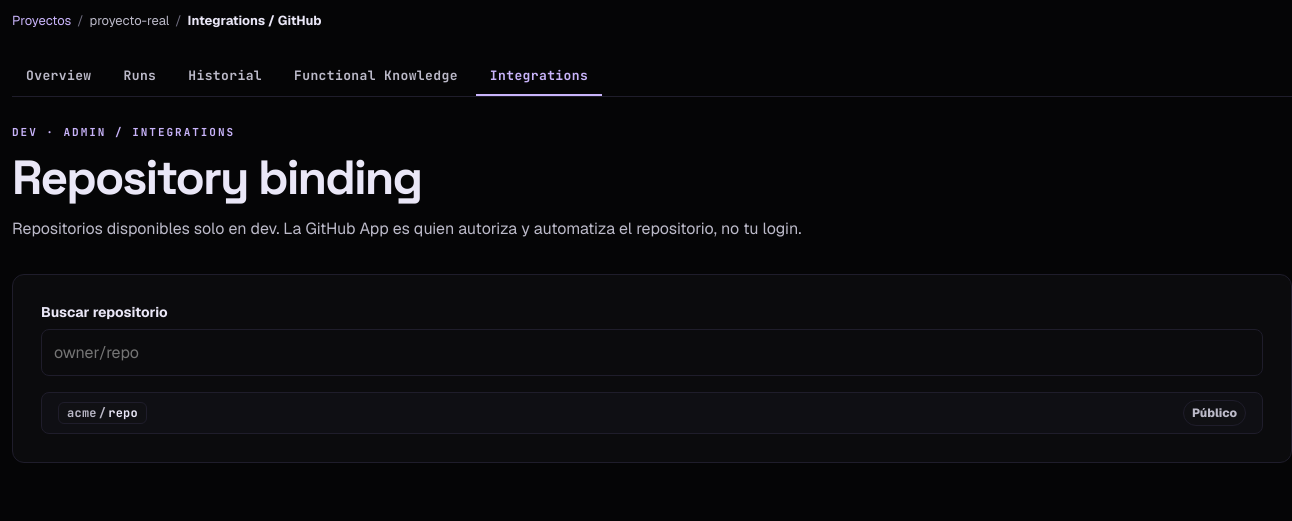
en live 404 GITHUB_REPOSITORY_NOT_FOUND al vincular muestra un único mensaje neutral (no encontrado o sin permiso), conserva repo y rama y no bloquea el botón
The width and height of the screenshot is (1292, 521).
Click the button "acme / repo Público" at (102, 413), box [41,392,1263,434]
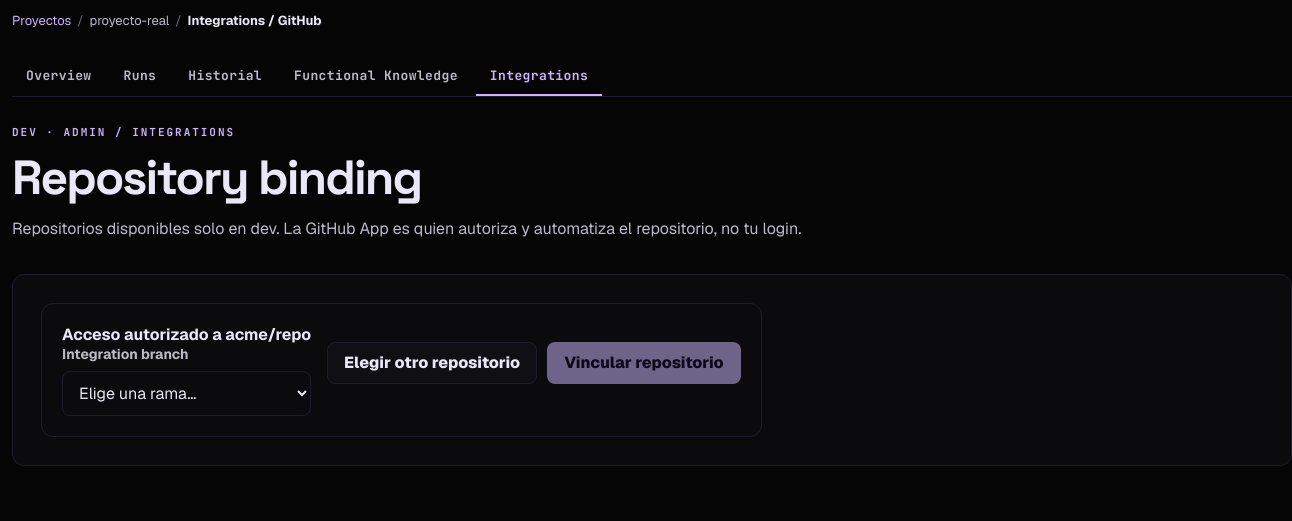
Select "main (protegida)" in the dropdown labelled "Integration branch" at (186, 393), box [62,371,311,416]
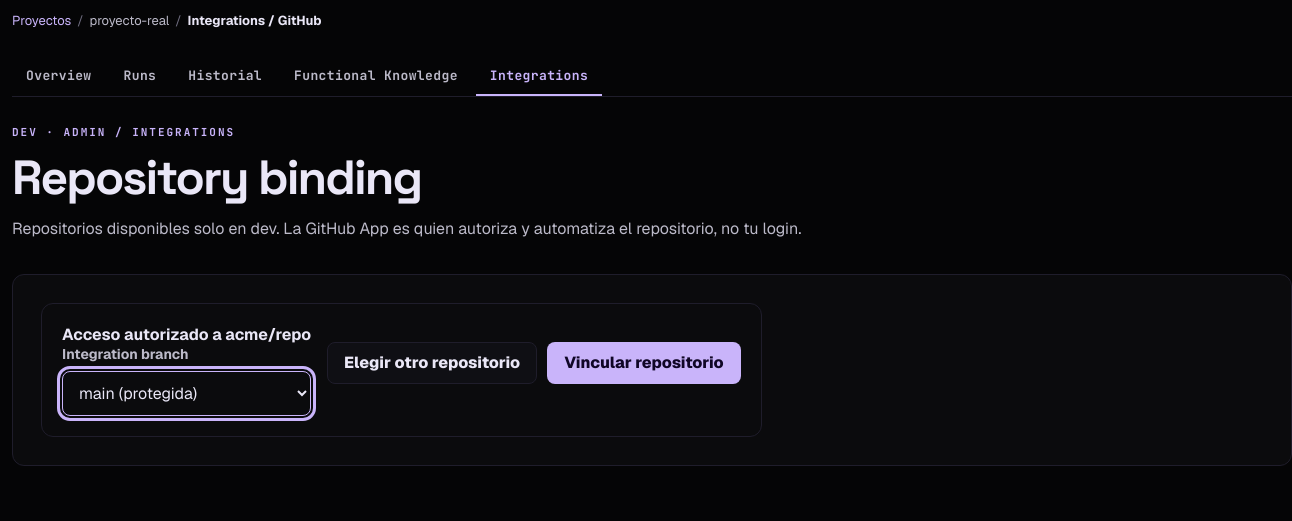
Click the button "Vincular repositorio" at (644, 363), box [547,342,741,384]
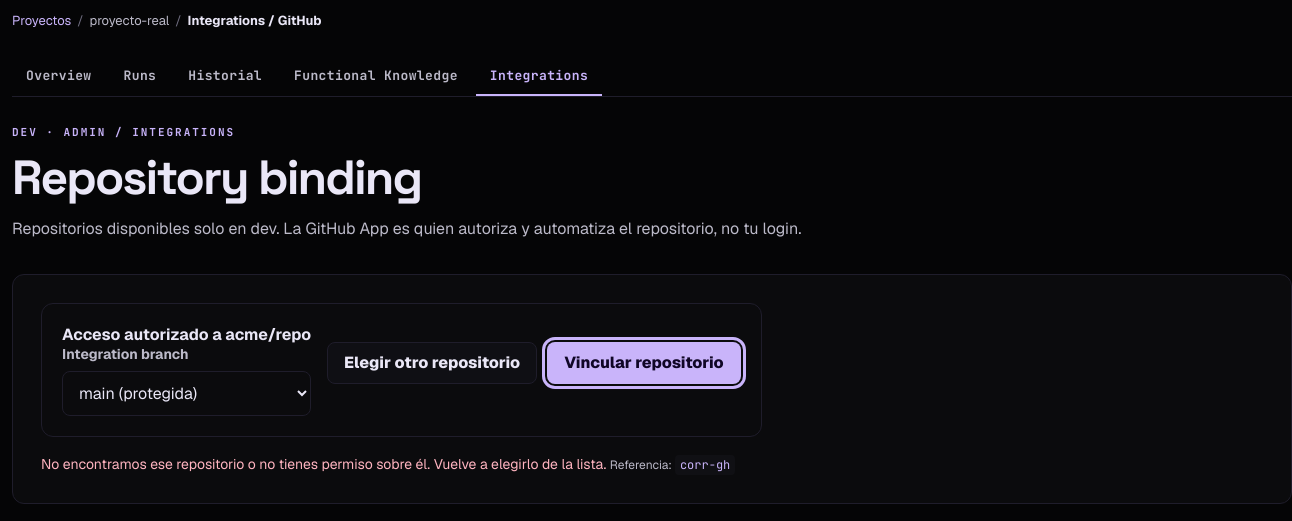
Expected: the text "Acceso autorizado a acme/repo" is shown, [62,324,311,345]
Expected: the message shows "No encontramos ese repositorio o no tienes permiso sobre él. Vuelve a elegirlo de la lista.", [41,455,606,473]
Expected: the message shows "corr-gh", [680,457,730,473]
